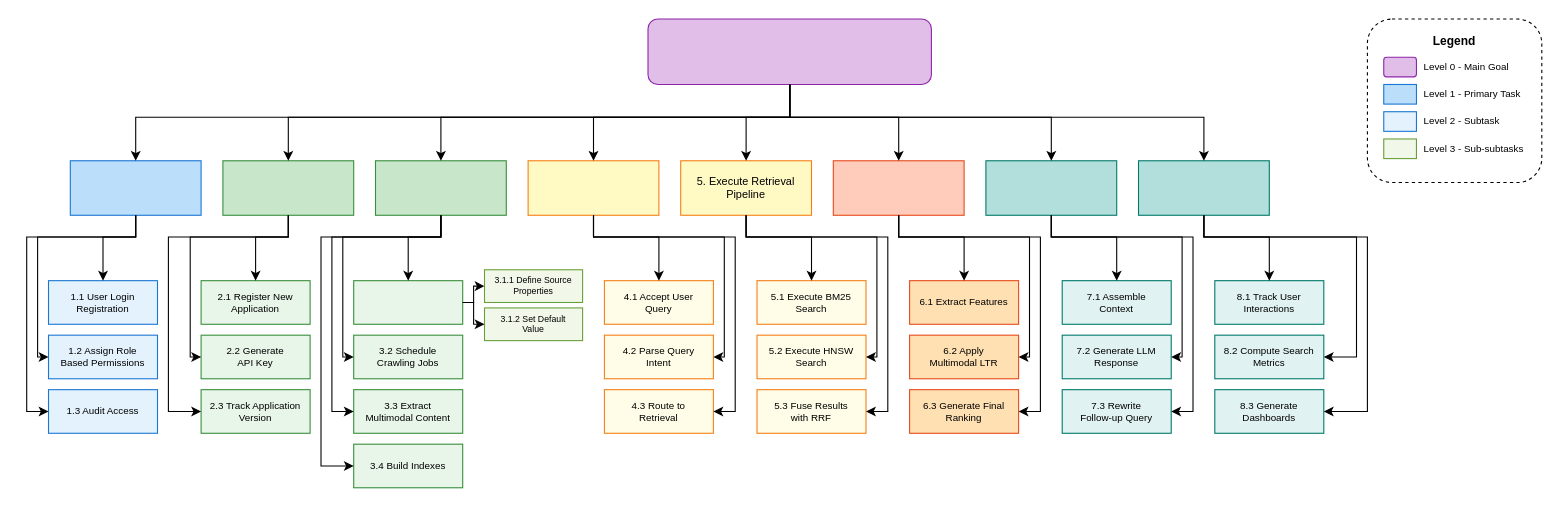
The diagram is 1561 pixels wide and 507 high, and some of its shapes have lost their labels. Each missing label, with the centre of its shape:
"0. Multimodal Search System" belongs at (x=789, y=51).
"1. Manage Access Control" belongs at (x=135, y=187).
"2. Manage Application" belongs at (x=288, y=187).
"3. Manage Data Ingestion" belongs at (x=440, y=187).
"3.1 Configure Data Sources" belongs at (x=408, y=302).
"4. Manage Search Operations" belongs at (x=593, y=187).
"6. Manage Reranking" belongs at (x=898, y=187).
"7. Execute RAG Generation" belongs at (x=1051, y=187).
"8. Manage Analytics" belongs at (x=1203, y=187).
